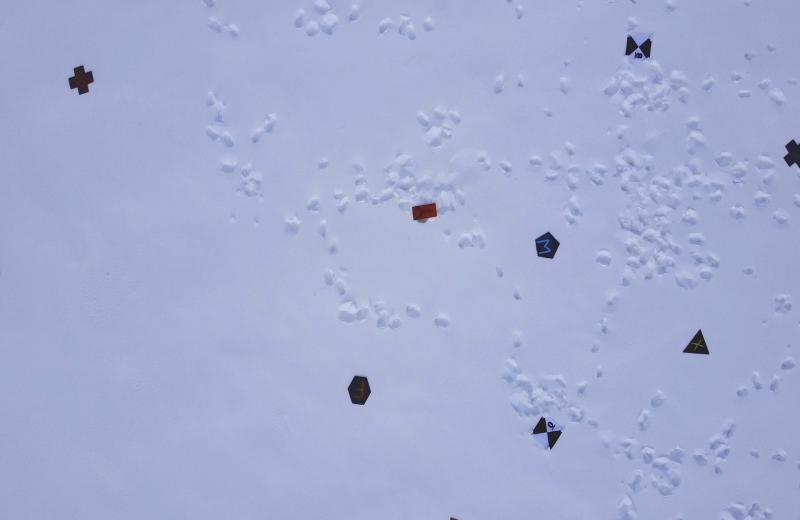Cross: (67, 60, 96, 95), (783, 139, 800, 171)
Hexagon: (345, 371, 375, 407)
Pentagon: (536, 223, 569, 258)
Rectangle: (408, 200, 442, 226)
Triangle: (682, 326, 709, 360)
